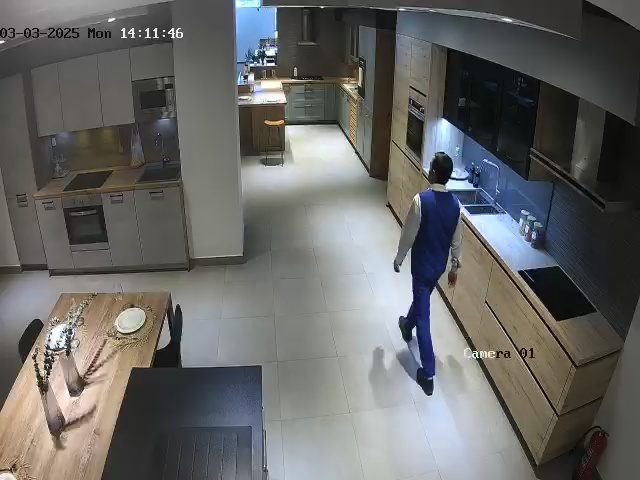employee: (393, 151, 464, 396)
